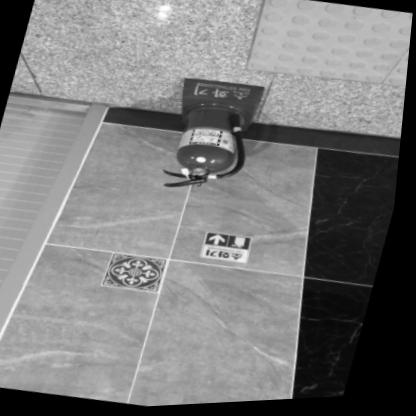FE: (155, 72, 270, 203)
